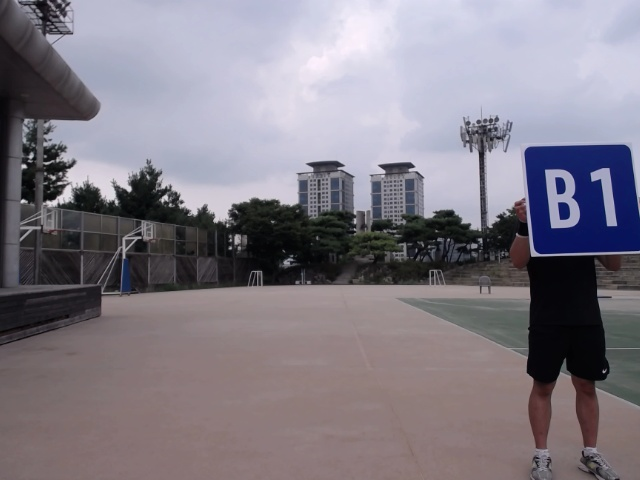delivery_b1: (520, 142, 639, 256)
